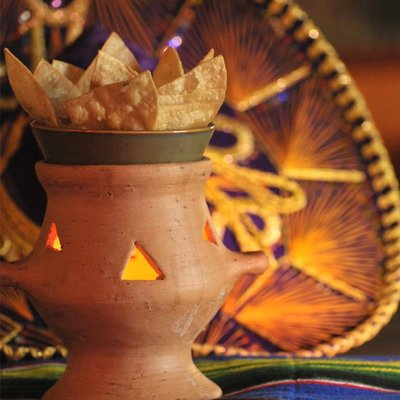sushi: (6, 1, 228, 167)
